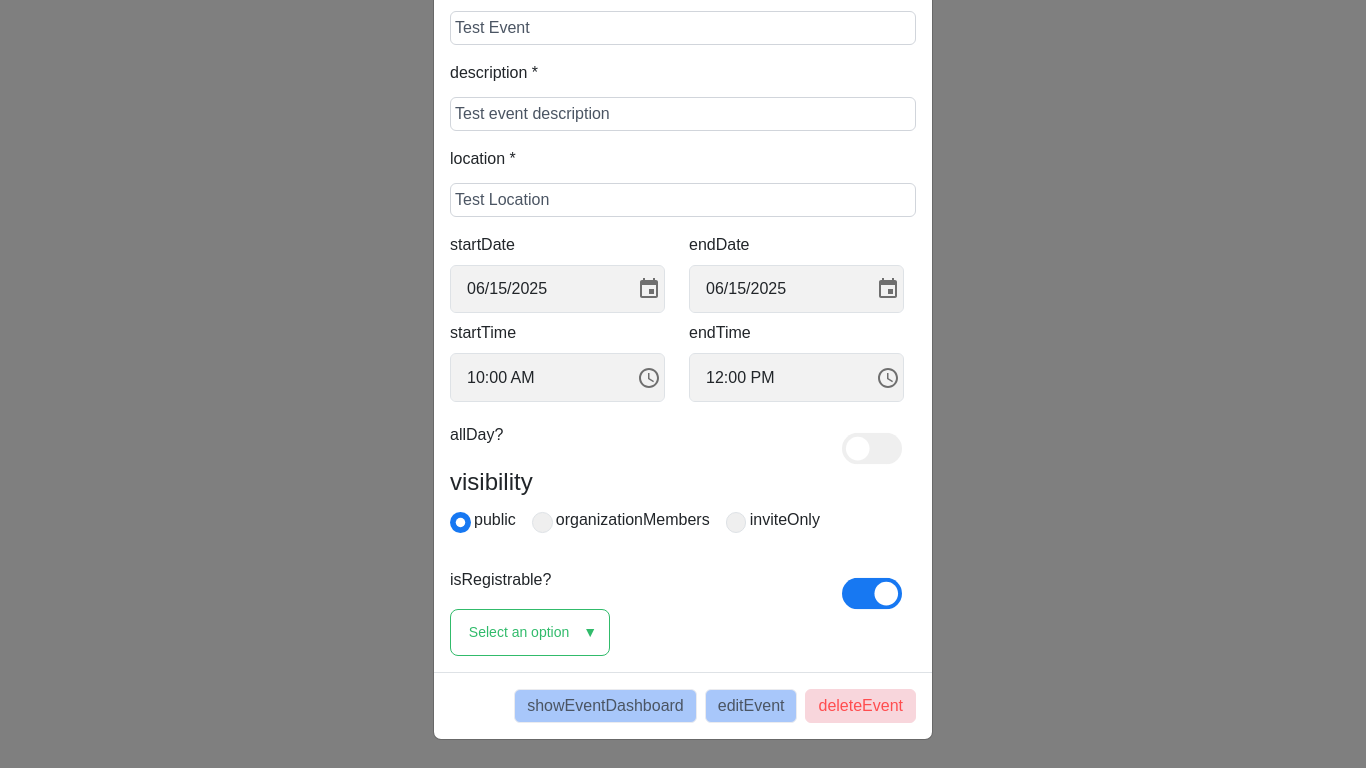
Test case: EventListCardPreviewModal › opens recurrence dropdown and shows options
This screenshot has width=1366, height=768.
(page scrolled)
Click the button with test id "recurrence-toggle". click: (530, 632)
box: left=450, top=608, right=610, bottom=656
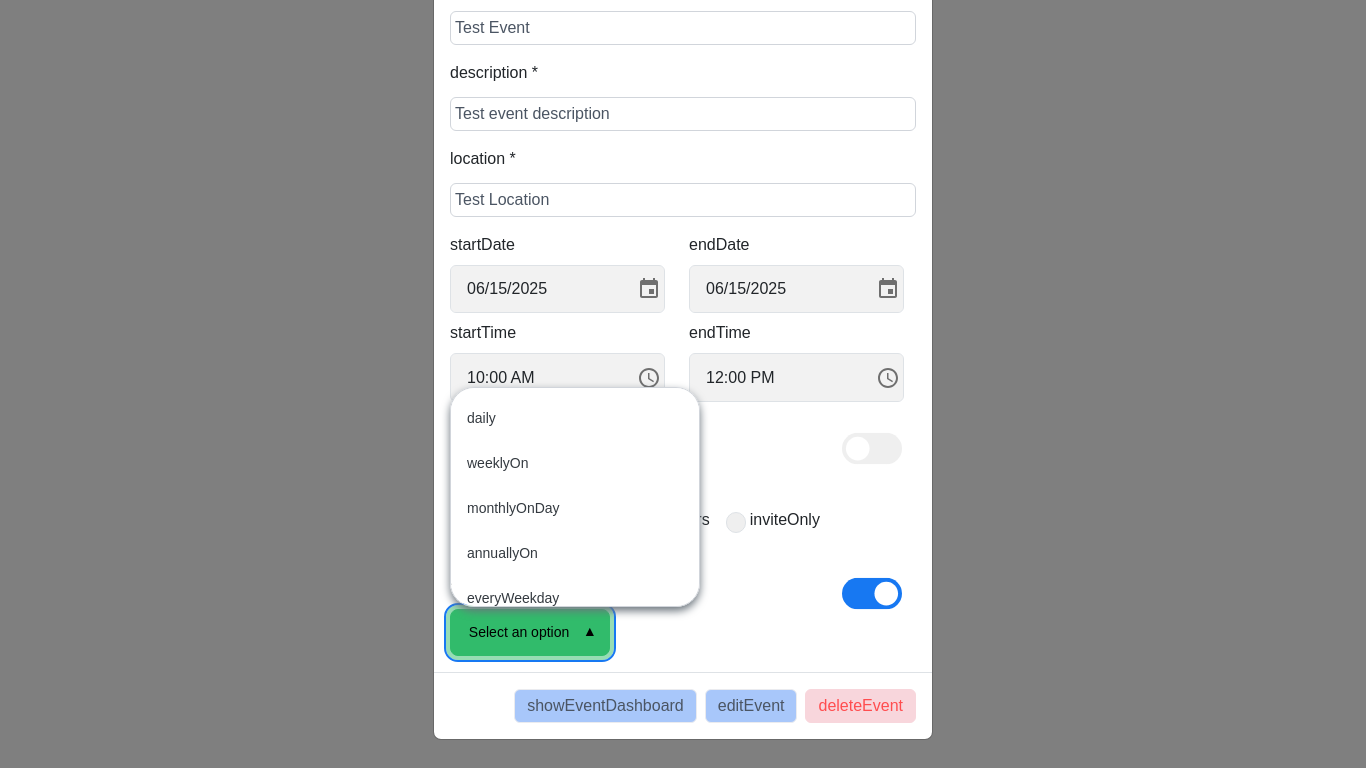
expect the option "daily" is shown: met, box left=467, top=410, right=496, bottom=426
expect the option "weeklyOn" is shown: met, box left=467, top=454, right=528, bottom=470
expect the option "monthlyOnDay" is shown: met, box left=467, top=500, right=560, bottom=516
